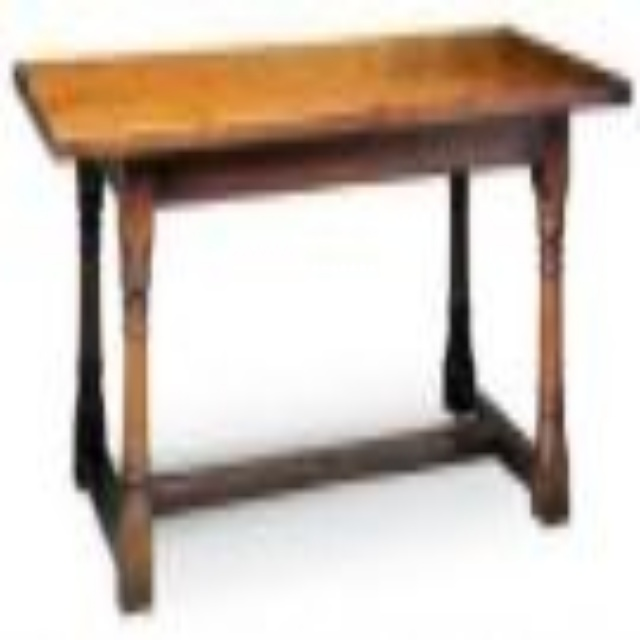obstacle: (14, 26, 626, 605)
